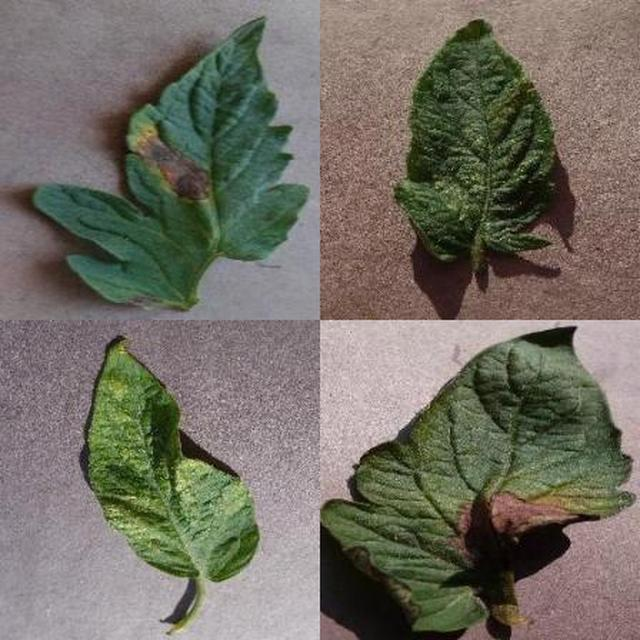Early Blight Leaf: (235, 202, 640, 640)
